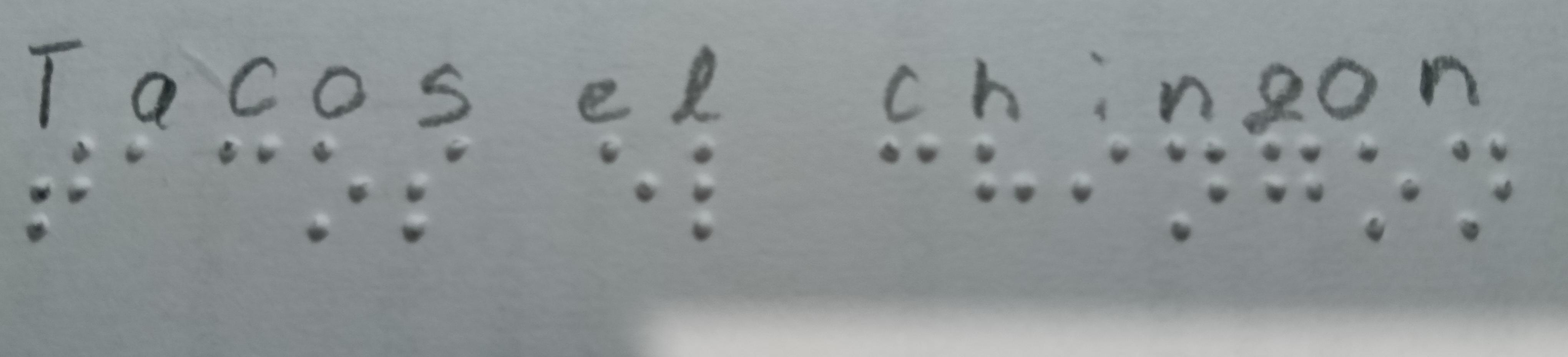a: (111, 133, 163, 167)
c: (853, 125, 947, 183), (209, 127, 282, 179)
e: (576, 125, 673, 221)
g: (1243, 138, 1334, 209)
h: (957, 133, 1047, 208)
i: (1053, 133, 1136, 213)
l: (682, 129, 734, 246)
n: (1435, 125, 1531, 252), (1155, 134, 1237, 246)
o: (1343, 131, 1426, 254), (296, 133, 379, 244)
s: (384, 134, 490, 250)
t: (27, 131, 92, 244)
